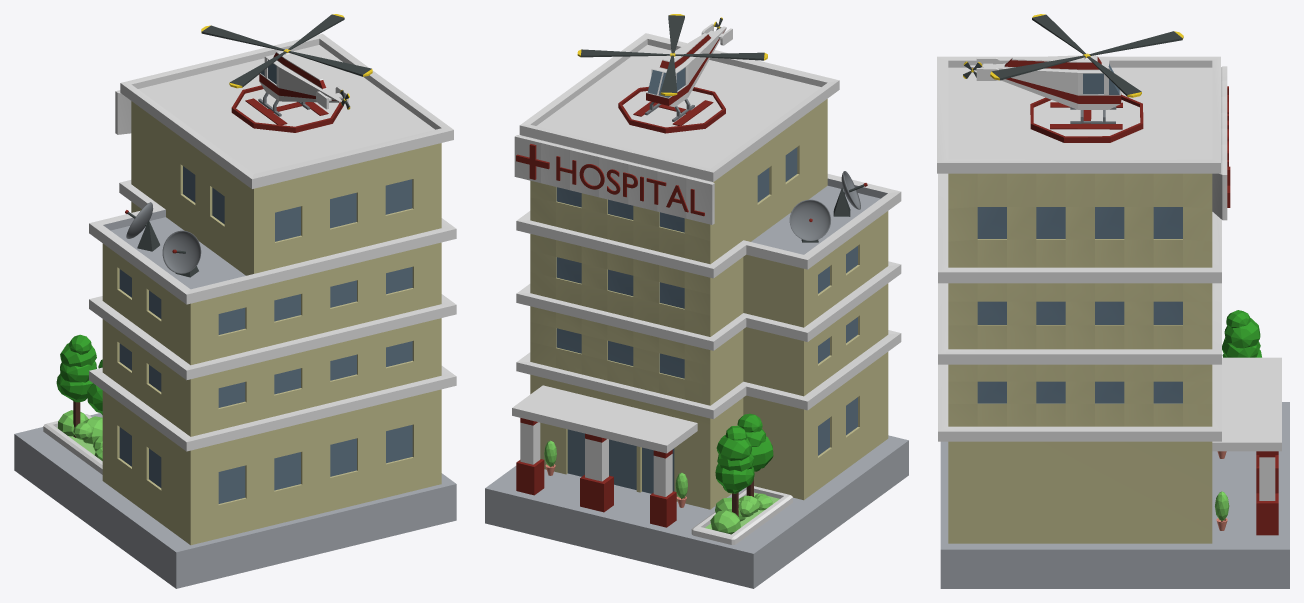
Rendered from hospital.glb.
3 renders of one model, left to right at view 1: azimuth 30°, elevation 25°; view 2: azimuth 150°, elevation 25°; view 3: azimuth 270°, elevation 25°, orthographic. The views are drawn at different scales.
Parts seen in each view (by area): view 1: Hospital; view 2: Hospital; view 3: Hospital.
Boxes of the visible parts, x1,y1,x2,y2 form: Hospital: (14,14,456,588); Hospital: (485,14,908,588); Hospital: (937,14,1289,588).
Size of the model in its own units: 0.9986 by 1.52 by 1.01.
